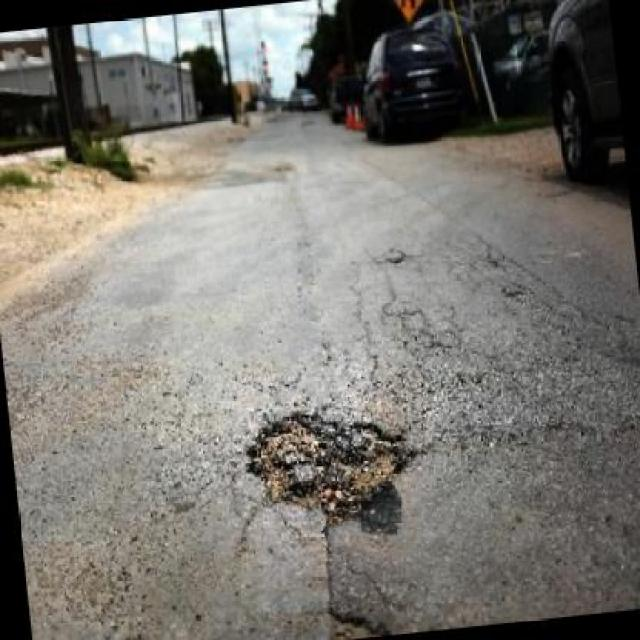pothole1: (240, 399, 417, 527), (324, 596, 390, 639)
